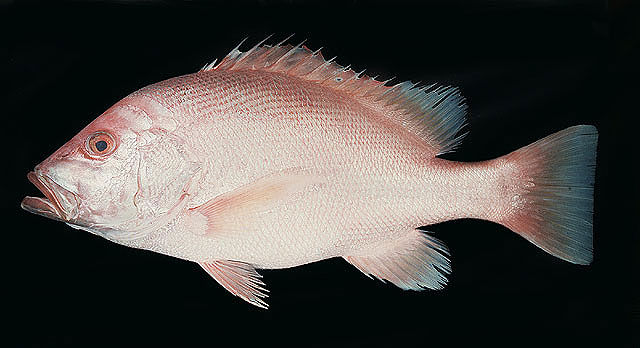fish: (20, 34, 600, 310)
